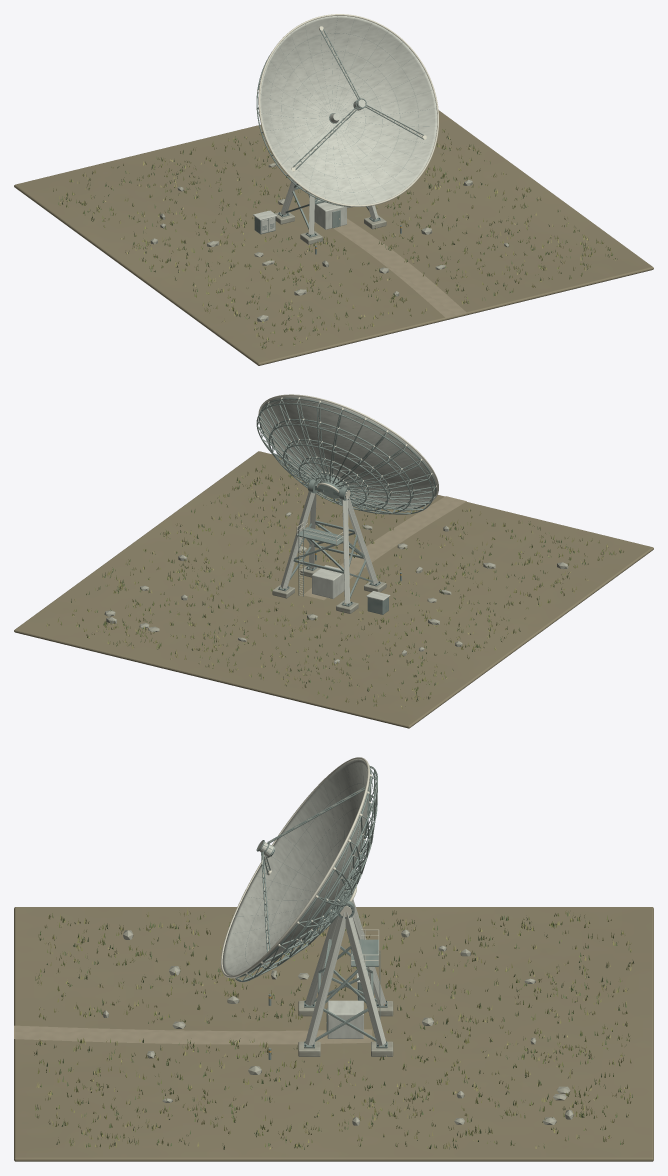
File: Radio_Observatory_Scene.glb
3 views of the same model, one above another, from view 1: azimuth 30°, elevation 25°; view 2: azimuth 150°, elevation 25°; view 3: azimuth 270°, elevation 25° (orthographic). The views are drawn at different scales.
Parts seen in each view (by area): view 1: Terrain, Reflector_Continuous, Dry_Grass, Access_Road, Reflector_Rim, Panel_Joint_Markings, Feed_Supports, Scattered_Stones, Service_Pod, Tower_Legs, Foundations; view 2: Terrain, Reflector_Continuous, Dry_Grass, Radial_Trusses, Rear_Hoops, Tower_Legs, Access_Road, Tower_Bracing, Scattered_Stones, Service_Pod, Cross_Braces, Foundations (+1 smaller); view 3: Terrain, Reflector_Continuous, Dry_Grass, Access_Road, Tower_Legs, Rear_Hoops, Radial_Trusses, Scattered_Stones, Reflector_Rim, Tower_Bracing, Service_Pod, Foundations (+2 smaller).
Boxes of the visible parts, <box> form: Terrain: <box>14,110,653,365</box>; Reflector_Continuous: <box>260,16,437,205</box>; Dry_Grass: <box>53,129,617,349</box>; Access_Road: <box>333,218,466,317</box>; Reflector_Rim: <box>258,14,438,206</box>; Panel_Joint_Markings: <box>261,16,436,204</box>; Feed_Supports: <box>292,29,424,169</box>; Scattered_Stones: <box>150,163,509,321</box>; Service_Pod: <box>314,199,346,229</box>; Tower_Legs: <box>280,180,378,234</box>; Foundations: <box>274,207,386,244</box>; Terrain: <box>14,451,653,728</box>; Reflector_Continuous: <box>259,396,437,507</box>; Dry_Grass: <box>46,465,623,708</box>; Radial_Trusses: <box>257,399,435,514</box>; Rear_Hoops: <box>256,398,435,514</box>; Tower_Legs: <box>280,490,378,603</box>; Access_Road: <box>304,496,466,600</box>; Tower_Bracing: <box>289,520,373,598</box>; Scattered_Stones: <box>104,512,568,663</box>; Service_Pod: <box>312,565,344,598</box>; Cross_Braces: <box>257,399,434,511</box>; Foundations: <box>272,566,386,613</box>; Terrain: <box>14,907,653,1161</box>; Reflector_Continuous: <box>222,759,369,975</box>; Dry_Grass: <box>34,908,633,1149</box>; Access_Road: <box>14,1025,372,1044</box>; Tower_Legs: <box>305,899,386,1045</box>; Rear_Hoops: <box>235,765,377,982</box>; Radial_Trusses: <box>237,766,377,981</box>; Scattered_Stones: <box>103,929,573,1125</box>; Reflector_Rim: <box>221,757,369,978</box>; Tower_Bracing: <box>313,939,377,1041</box>; Service_Pod: <box>326,1000,363,1038</box>; Foundations: <box>298,1001,393,1056</box>.
Bounding box in the file's own units: 56 × 27.47 × 60.
Materials: 18 (9 with a texture image).
